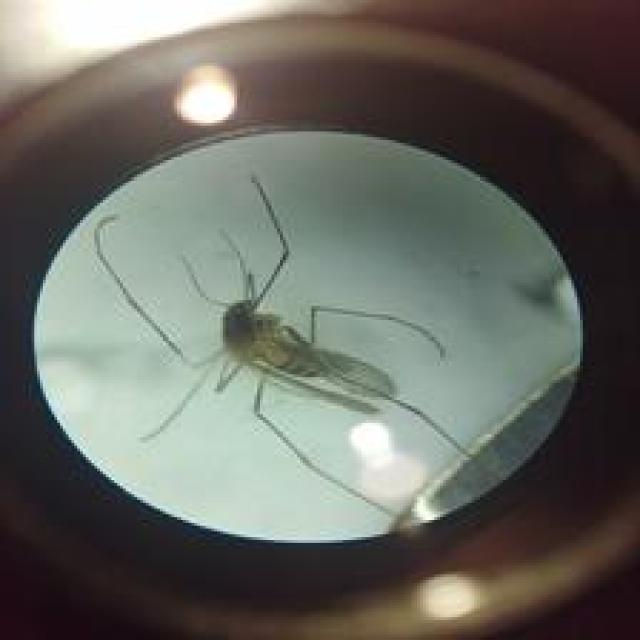Culex: (92, 172, 477, 528)
